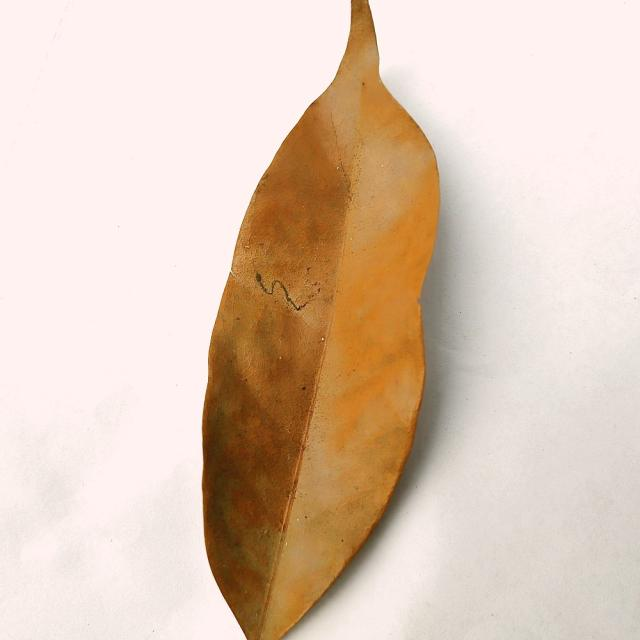Dry_Leaf-Lychee: (201, 0, 442, 639)
